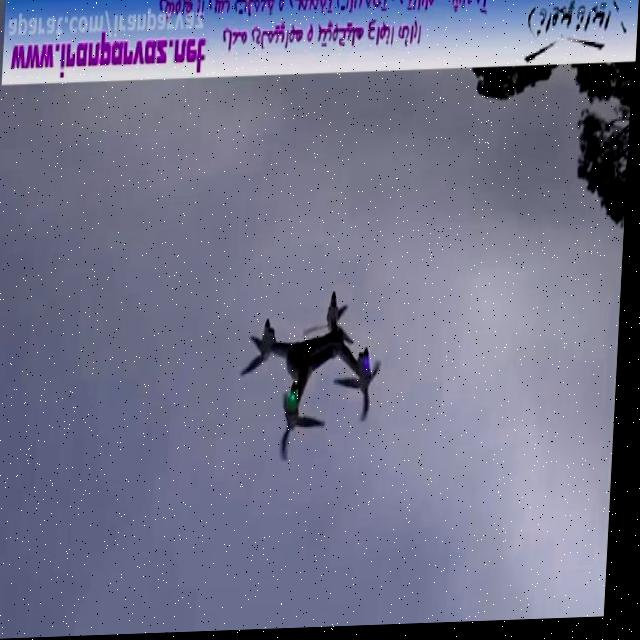drone: (236, 289, 392, 474)
